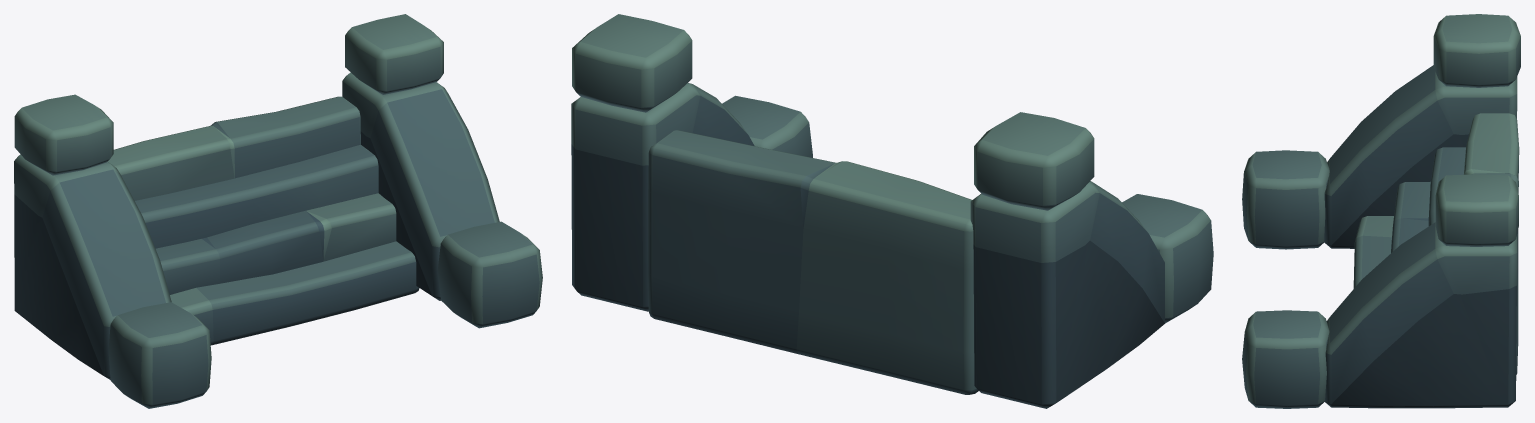
File: stairs_set_01_LOD_setup.fbx
3 renders of one model, left to right at view 1: azimuth 30°, elevation 25°; view 2: azimuth 150°, elevation 25°; view 3: azimuth 270°, elevation 25°, orthographic. The views are drawn at different scales.
Visible parts, largest first — view 1: stairs_set_01_LOD0; view 2: stairs_set_01_LOD0; view 3: stairs_set_01_LOD0.
Part boxes in pixels (x1,y1,x2,y2): stairs_set_01_LOD0: (14,14,542,408); stairs_set_01_LOD0: (571,14,1213,408); stairs_set_01_LOD0: (1242,14,1520,408).
Size of what is drawn, in the model's own units: 312 by 154 by 186.
